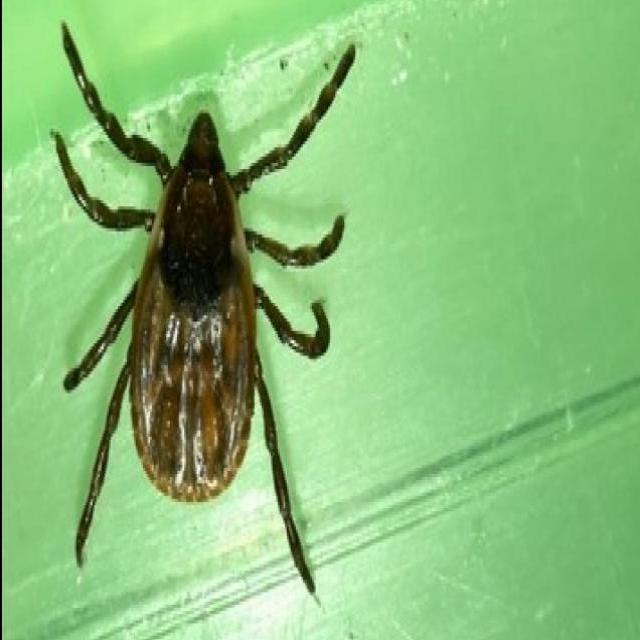Rhipicephalus Sanguineus-F: (51, 20, 357, 592)
